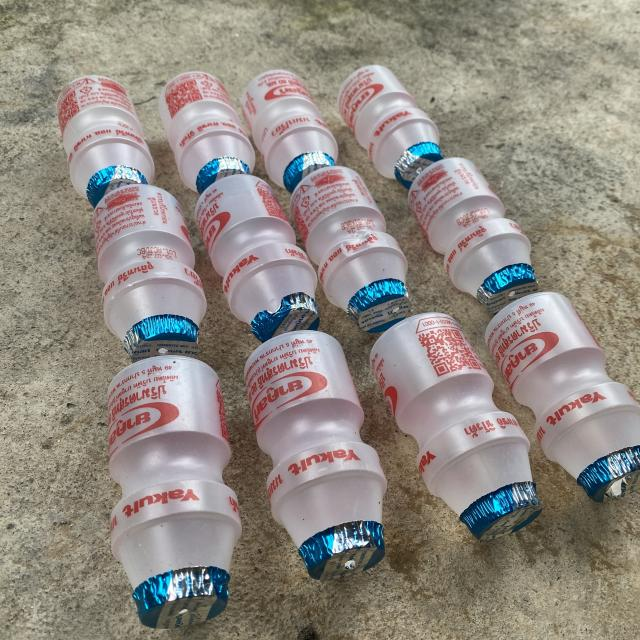Single-Use-Plastic: (371, 312, 541, 540), (109, 356, 241, 628), (245, 331, 386, 580), (485, 292, 640, 501), (195, 175, 319, 342), (92, 184, 206, 361), (291, 166, 410, 331), (409, 158, 538, 310), (338, 65, 442, 189), (58, 75, 155, 206), (241, 70, 338, 192), (159, 71, 255, 192)
